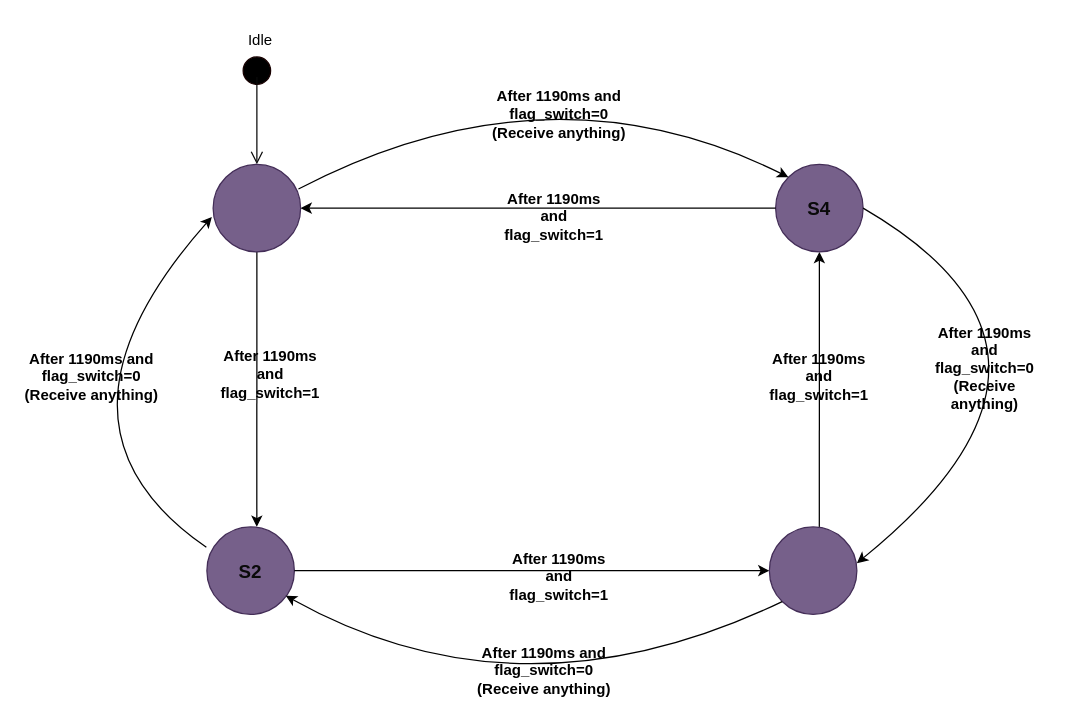
The diagram is 1065 pixels wide and 719 high, and some of its shapes have lost their labels. Each missing label, with the centre of its shape:
"S1" goes at point 256,207.
"S3" goes at point 812,570.
